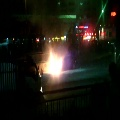fire: (46, 52, 62, 75)
